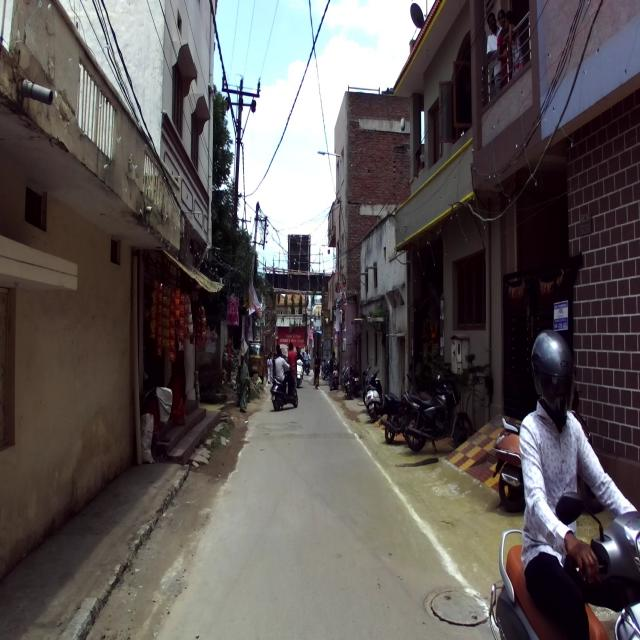motorcycle: (402, 374, 473, 453), (340, 360, 353, 399)
scooter: (488, 490, 639, 640), (492, 364, 602, 512), (270, 368, 298, 411), (364, 367, 384, 421), (295, 357, 303, 388)
